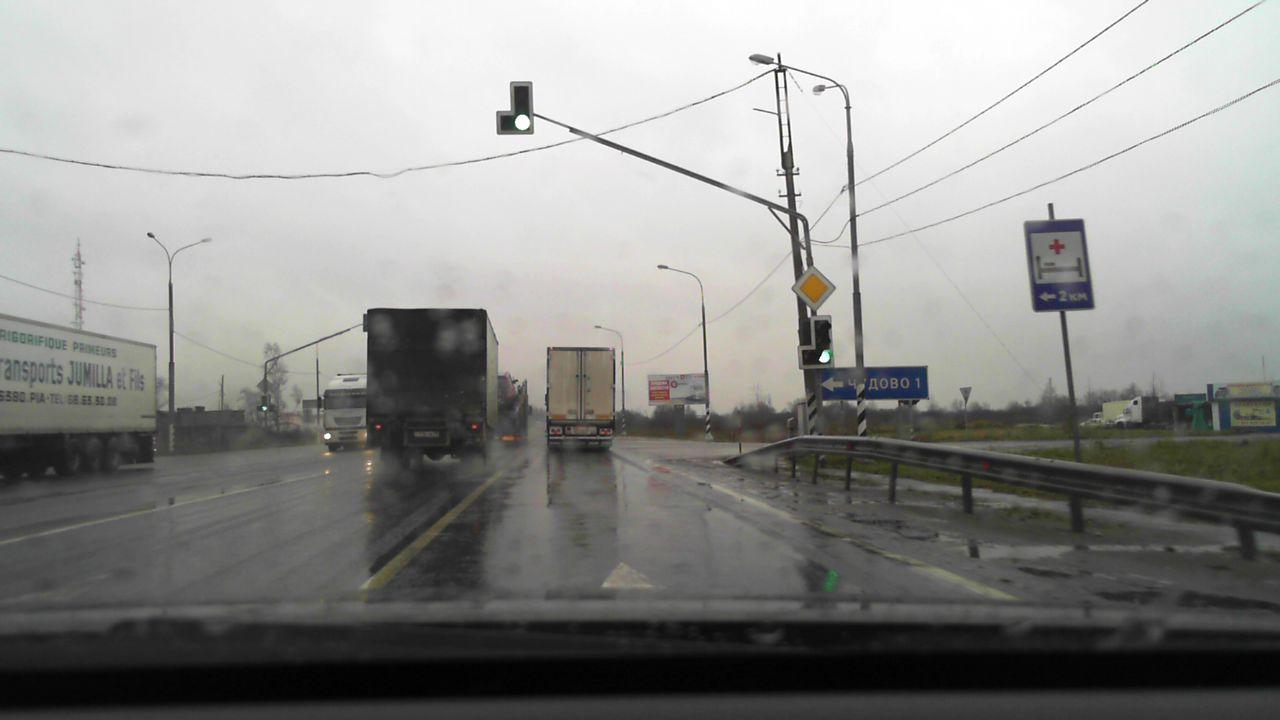2_1: (789, 266, 834, 308)
6_10_1: (811, 365, 928, 399)
7_2: (1023, 220, 1095, 312)
